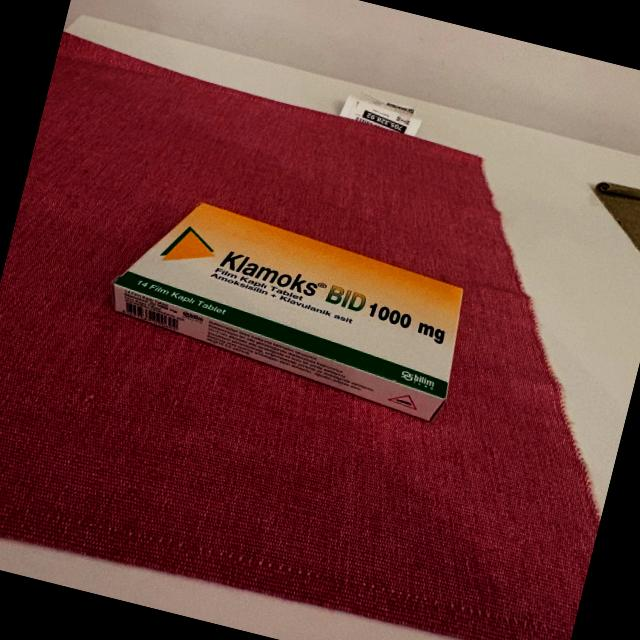good_package: (93, 187, 480, 428)
